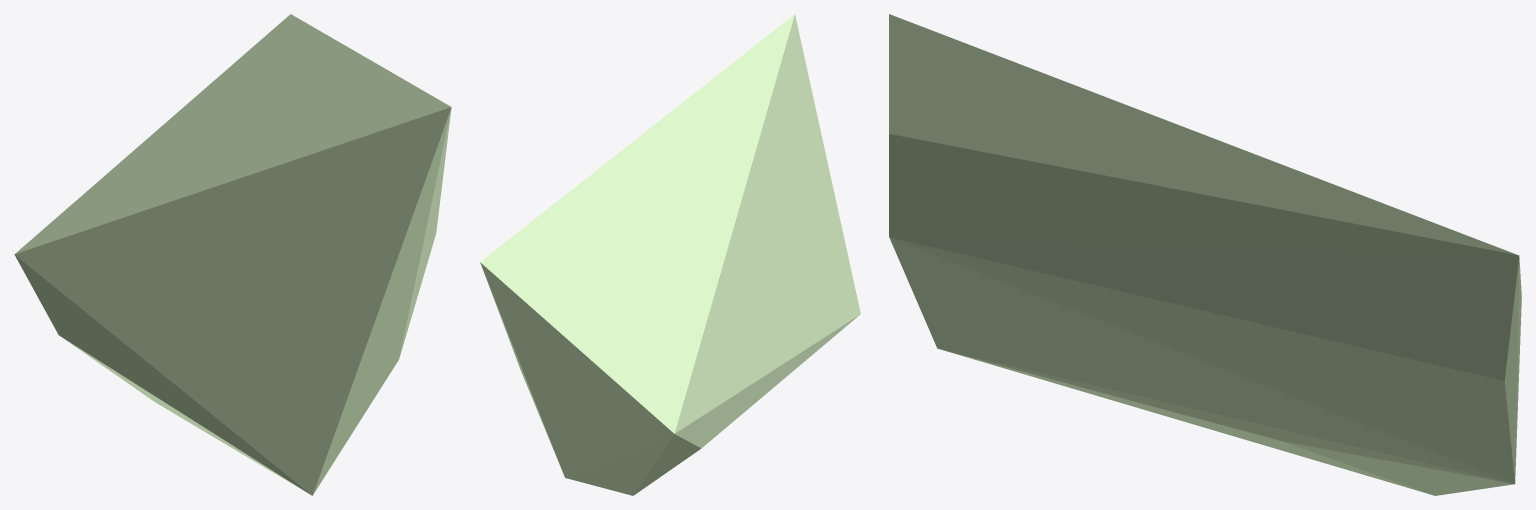
The model's file is kuka_robot_base_coll_6.dae.
3 views of the same model, side by side, from view 1: azimuth 30°, elevation 25°; view 2: azimuth 150°, elevation 25°; view 3: azimuth 270°, elevation 25° (orthographic). The views are drawn at different scales.
Parts seen in each view (by area): view 1: Node_0000015C5C912E10; view 2: Node_0000015C5C912E10; view 3: Node_0000015C5C912E10.
Boxes of the visible parts, box(x1,y1,x2,y2) form: Node_0000015C5C912E10: box(14, 14, 451, 495); Node_0000015C5C912E10: box(480, 14, 860, 495); Node_0000015C5C912E10: box(889, 14, 1521, 495).
Size of the model in its own units: 0.0368 by 0.0612 by 0.0703.
